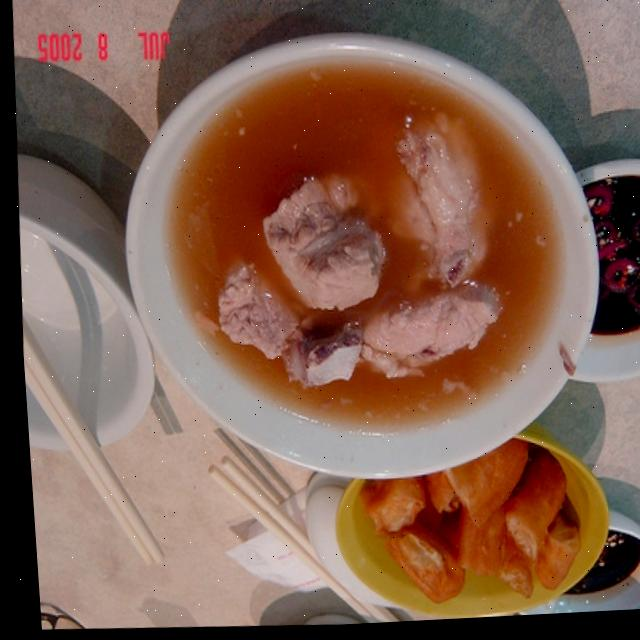汤锅炖物: (118, 50, 586, 456)
